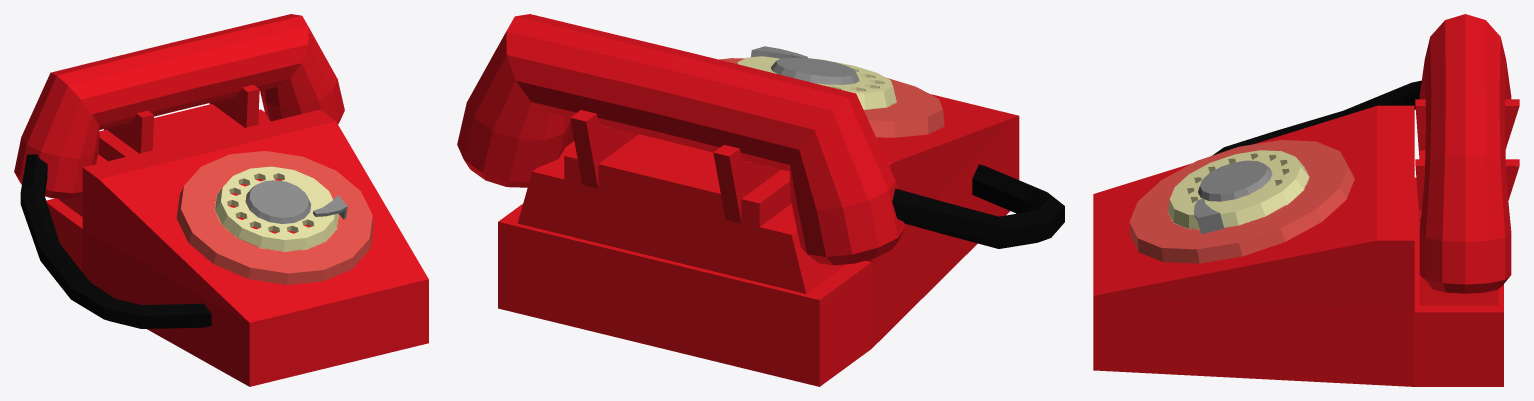
The model's file is PhonePiece.fbx.
3 renders of one model, left to right at view 1: azimuth 30°, elevation 25°; view 2: azimuth 150°, elevation 25°; view 3: azimuth 270°, elevation 25°, orthographic. The views are drawn at different scales.
Visible parts, largest first — view 1: Cube; view 2: Cube; view 3: Cube.
Boxes of the visible parts, x1,y1,x2,y2 form: Cube: (14,14,428,386); Cube: (457,14,1064,386); Cube: (1093,14,1519,386).
Bounding box in the file's own units: 230 × 127 × 208.
